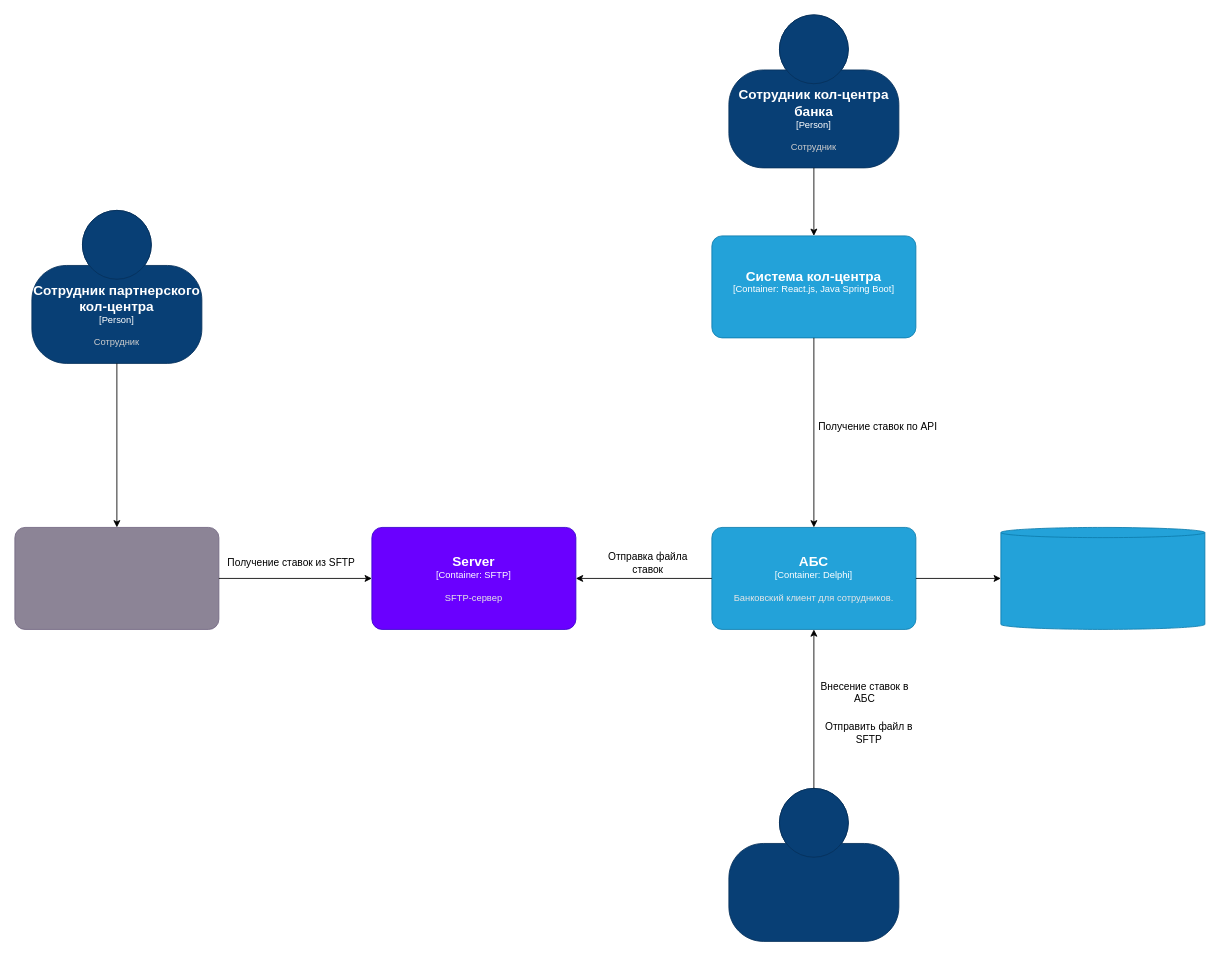
This 1220x956 diagram has some shape labels left out. The centre of each missing label's shape, as x and y in pixels:
"abs-db [Container: Oracle]" belongs at point 1102,578.
"Система партнерского кол-центра [] Система партнерского кол-центра" belongs at point 116,578.
"Сотрудник бэк-офиса [Person] Сотрудник" belongs at point 813,864.
